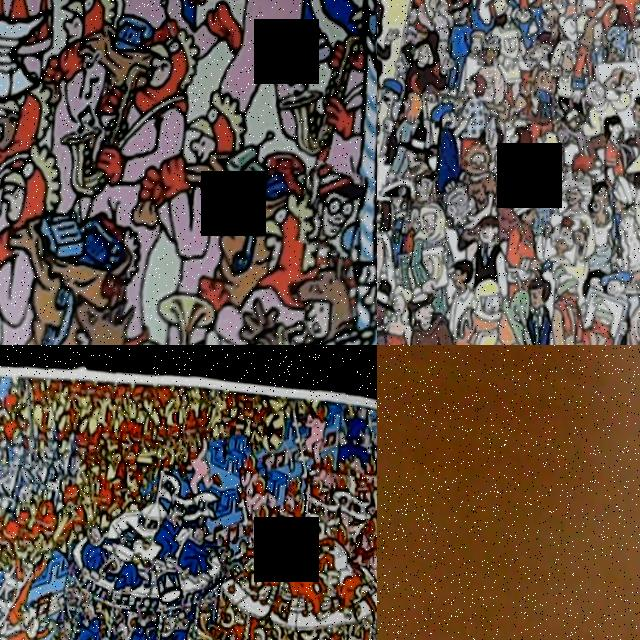waldo: (294, 159, 372, 256), (406, 165, 438, 205)
